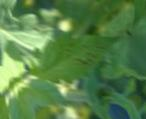Tomato leaf bacterial spot: (14, 0, 129, 111)
